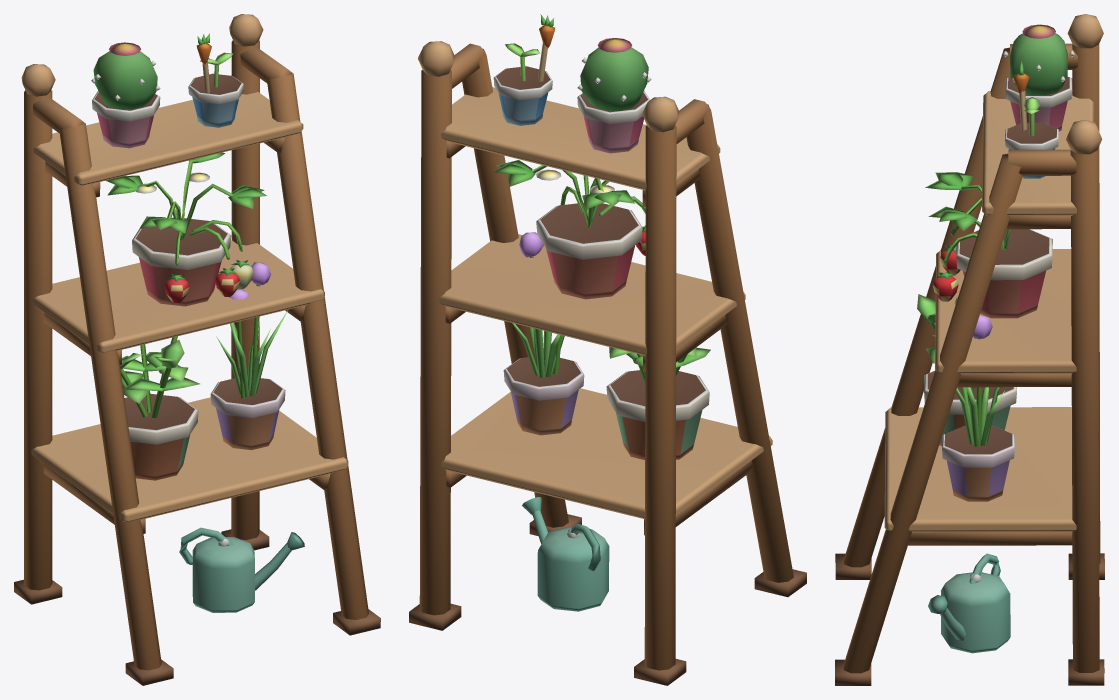
The model's file is furn-plantStand.glb.
The picture shows the model from 3 angles, left to right: view 1: azimuth 30°, elevation 25°; view 2: azimuth 150°, elevation 25°; view 3: azimuth 270°, elevation 25°; orthographic projection. The views are drawn at different scales.
Parts seen in each view (by area): view 1: furn; view 2: furn; view 3: furn.
Part boxes in pixels (bbox=[...]): furn: bbox=[14, 14, 380, 685]; furn: bbox=[409, 14, 806, 685]; furn: bbox=[835, 14, 1104, 685].
Size of the model in its own units: 0.4962 by 1.09 by 0.463.
